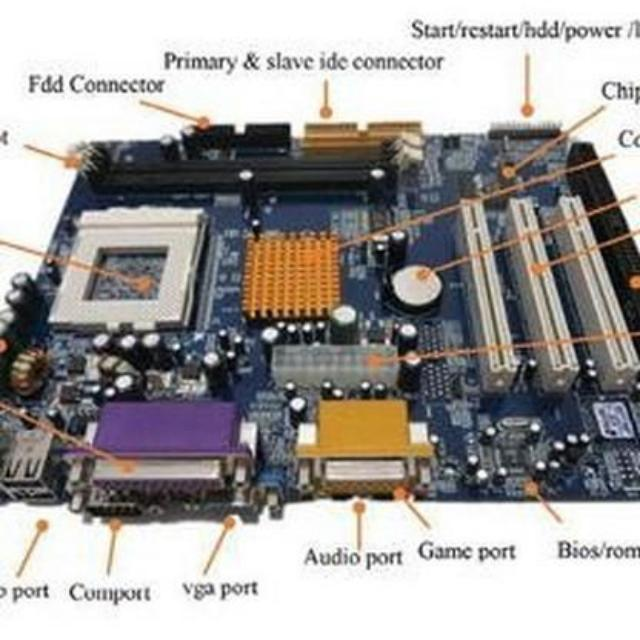Mainboard: (0, 98, 640, 530)
